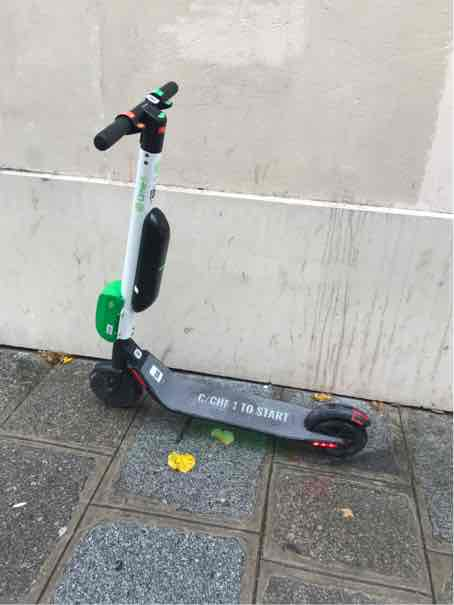scooter: (78, 75, 378, 460)
